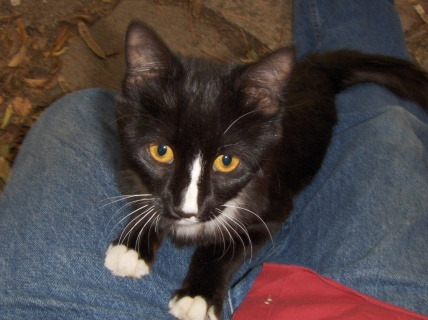Cat: (102, 15, 428, 319)
